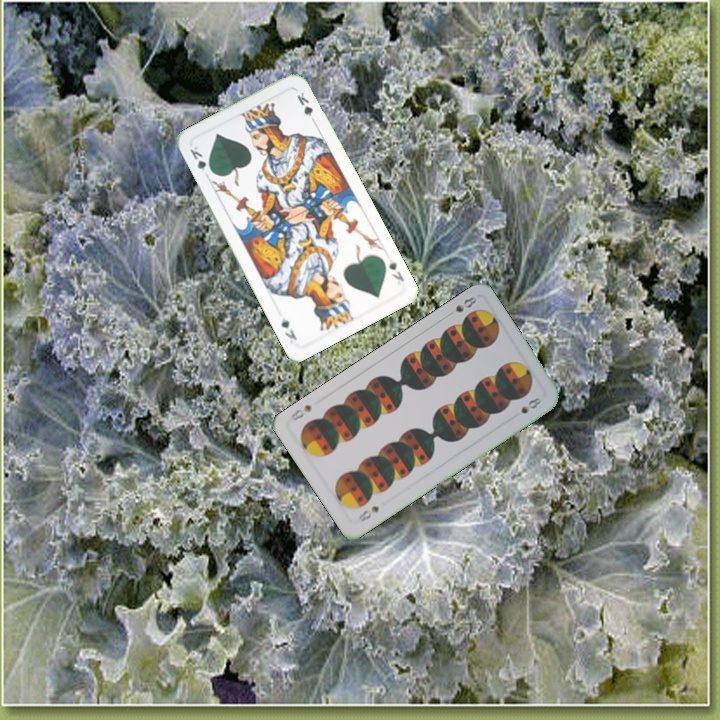GK: (186, 142, 215, 176), (384, 255, 407, 284)
S8: (442, 292, 479, 320), (355, 502, 382, 525)
